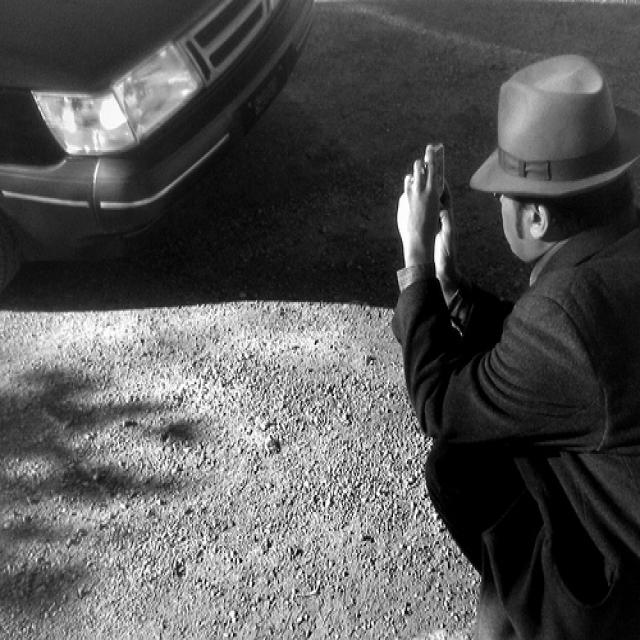Vehicle: (0, 2, 315, 298)
